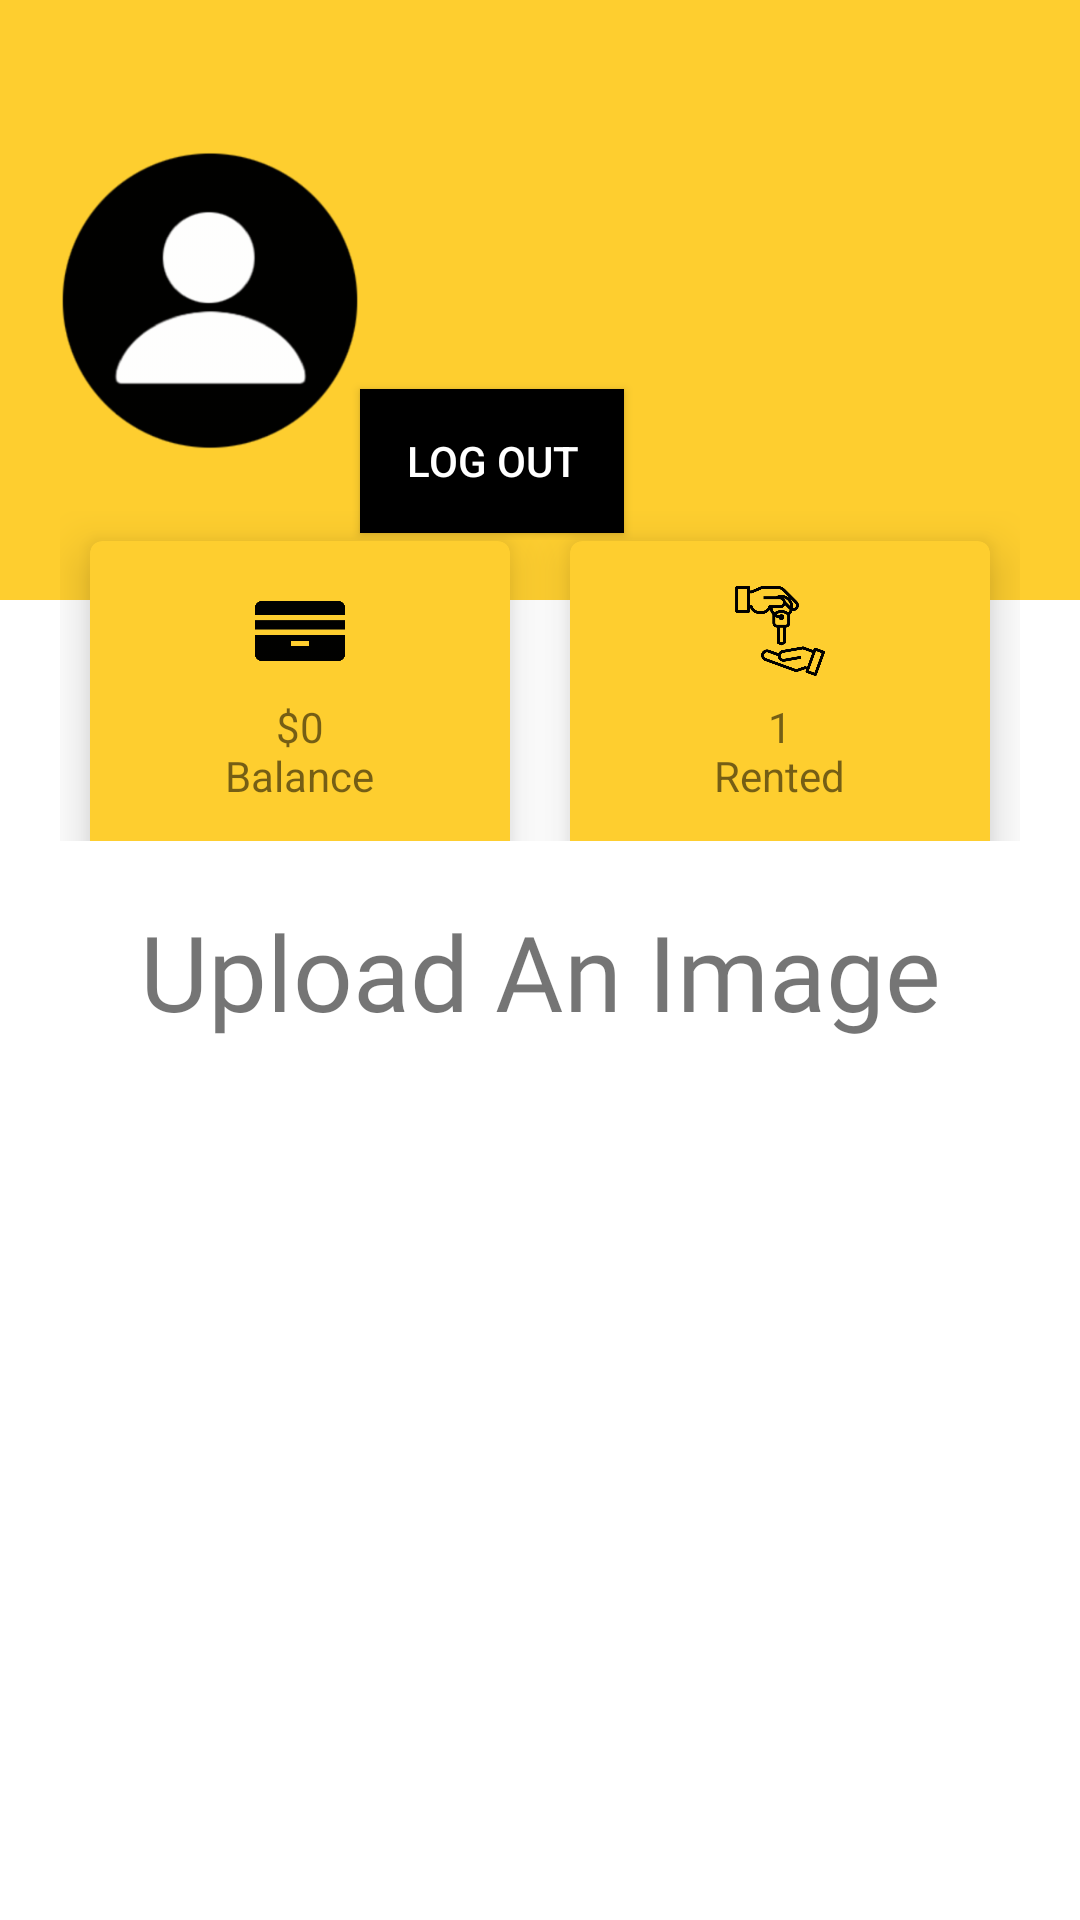

Screen size 1080 × 1920. Icon name, then its box in pixels as (x1, y1, x2, y2):
credit card: (255, 601, 345, 661)
deal: (735, 586, 825, 676)
profile: (62, 153, 358, 448)
